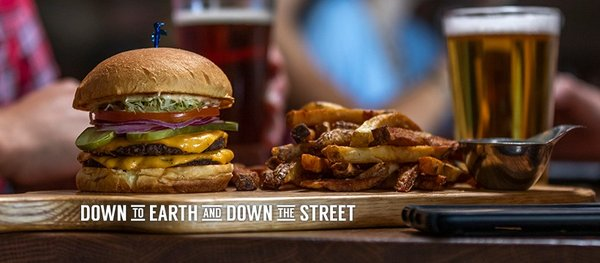pizza: (440, 5, 565, 144)
soup: (71, 47, 239, 193), (73, 46, 236, 129)
